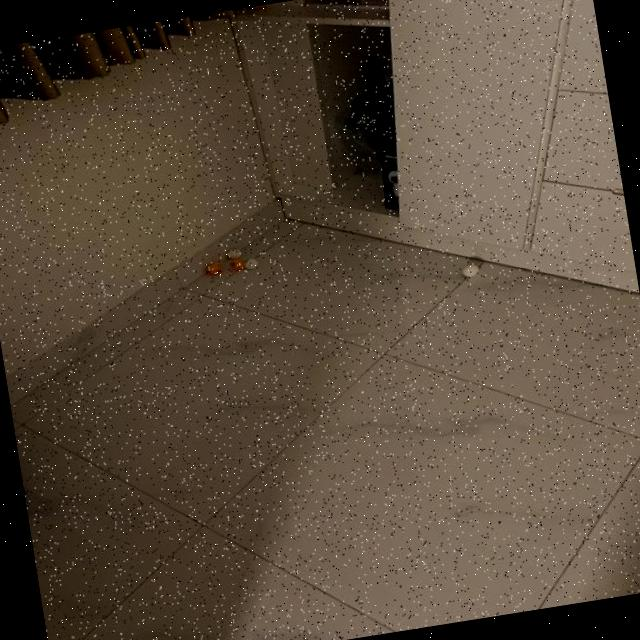ping-pong-ball: (458, 262, 479, 278), (204, 262, 222, 278), (227, 258, 245, 272), (242, 258, 258, 271), (225, 248, 241, 260)
